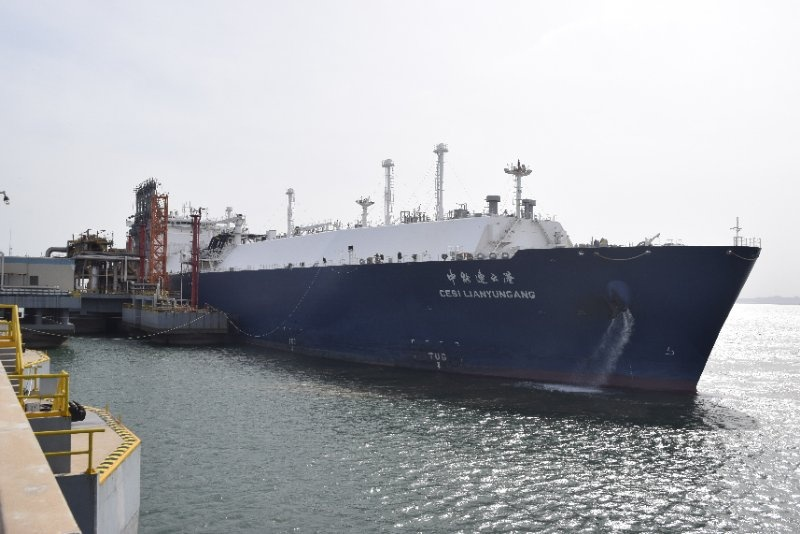Cargoship: (94, 138, 766, 392)
